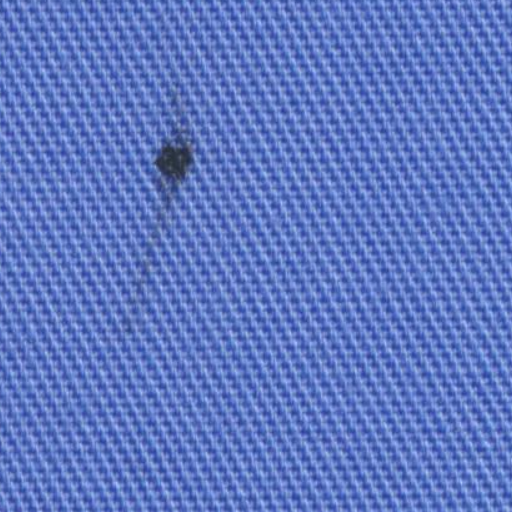WuZi: (106, 79, 213, 330)
